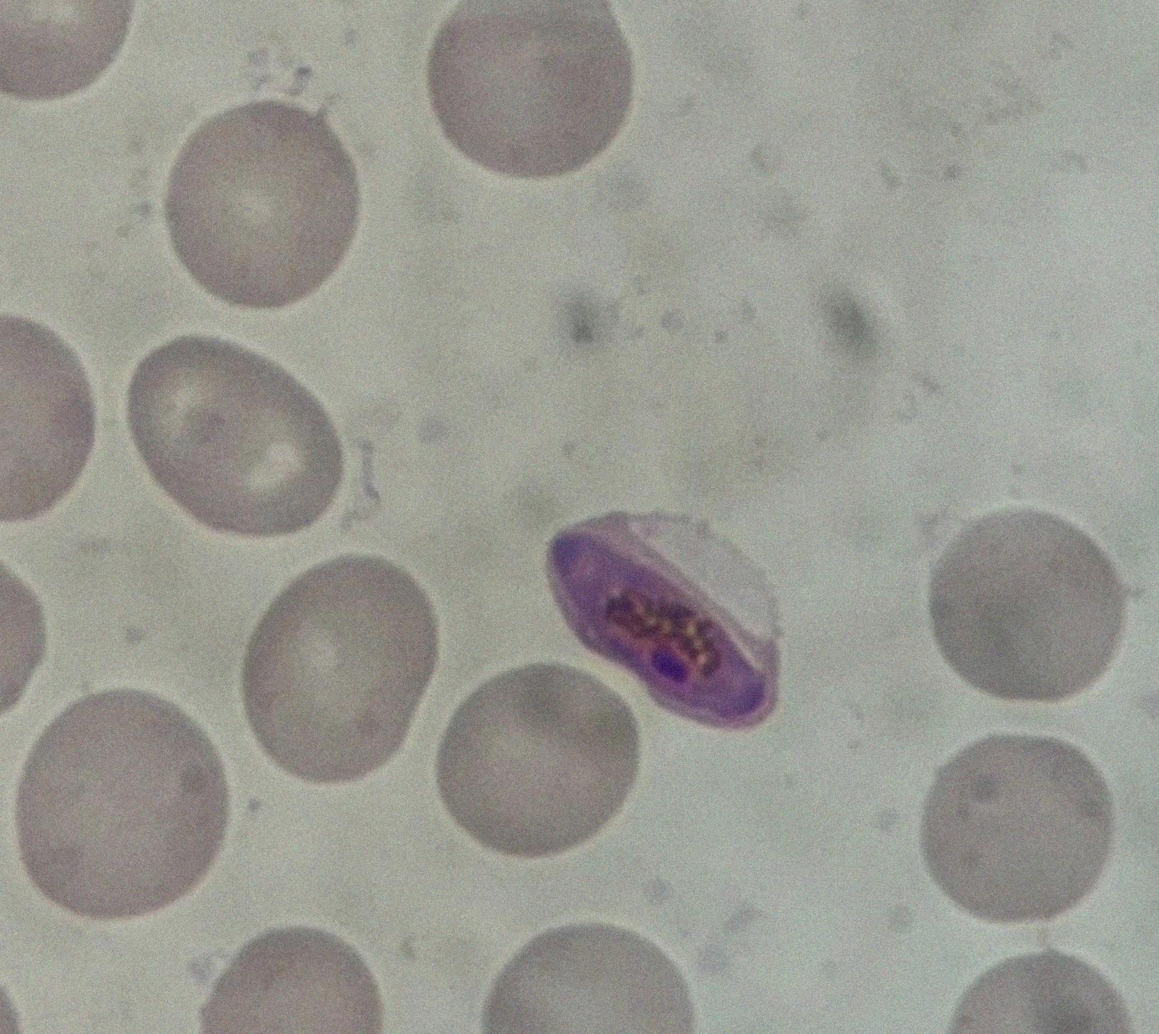Infected: (543, 510, 783, 731)
Uninfected: (17, 689, 231, 916), (247, 559, 439, 789), (164, 102, 365, 310), (924, 509, 1131, 705), (129, 336, 338, 530), (437, 665, 643, 858), (427, 1, 638, 180), (918, 736, 1116, 920)
